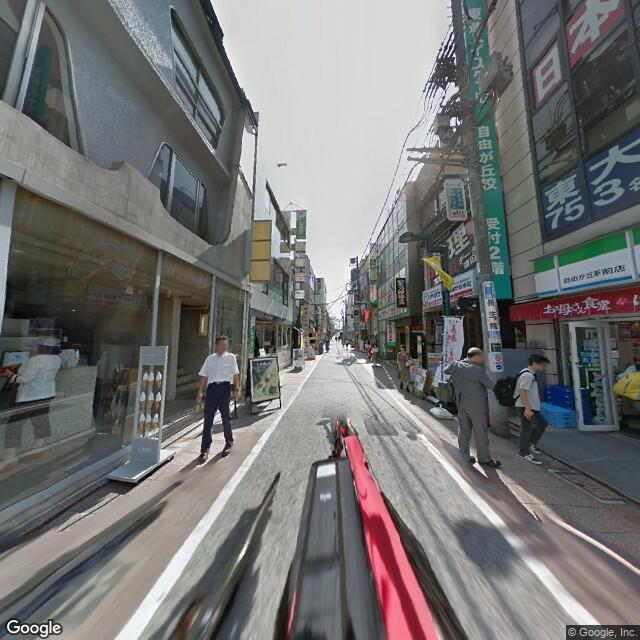family_mart: (534, 222, 639, 298)
